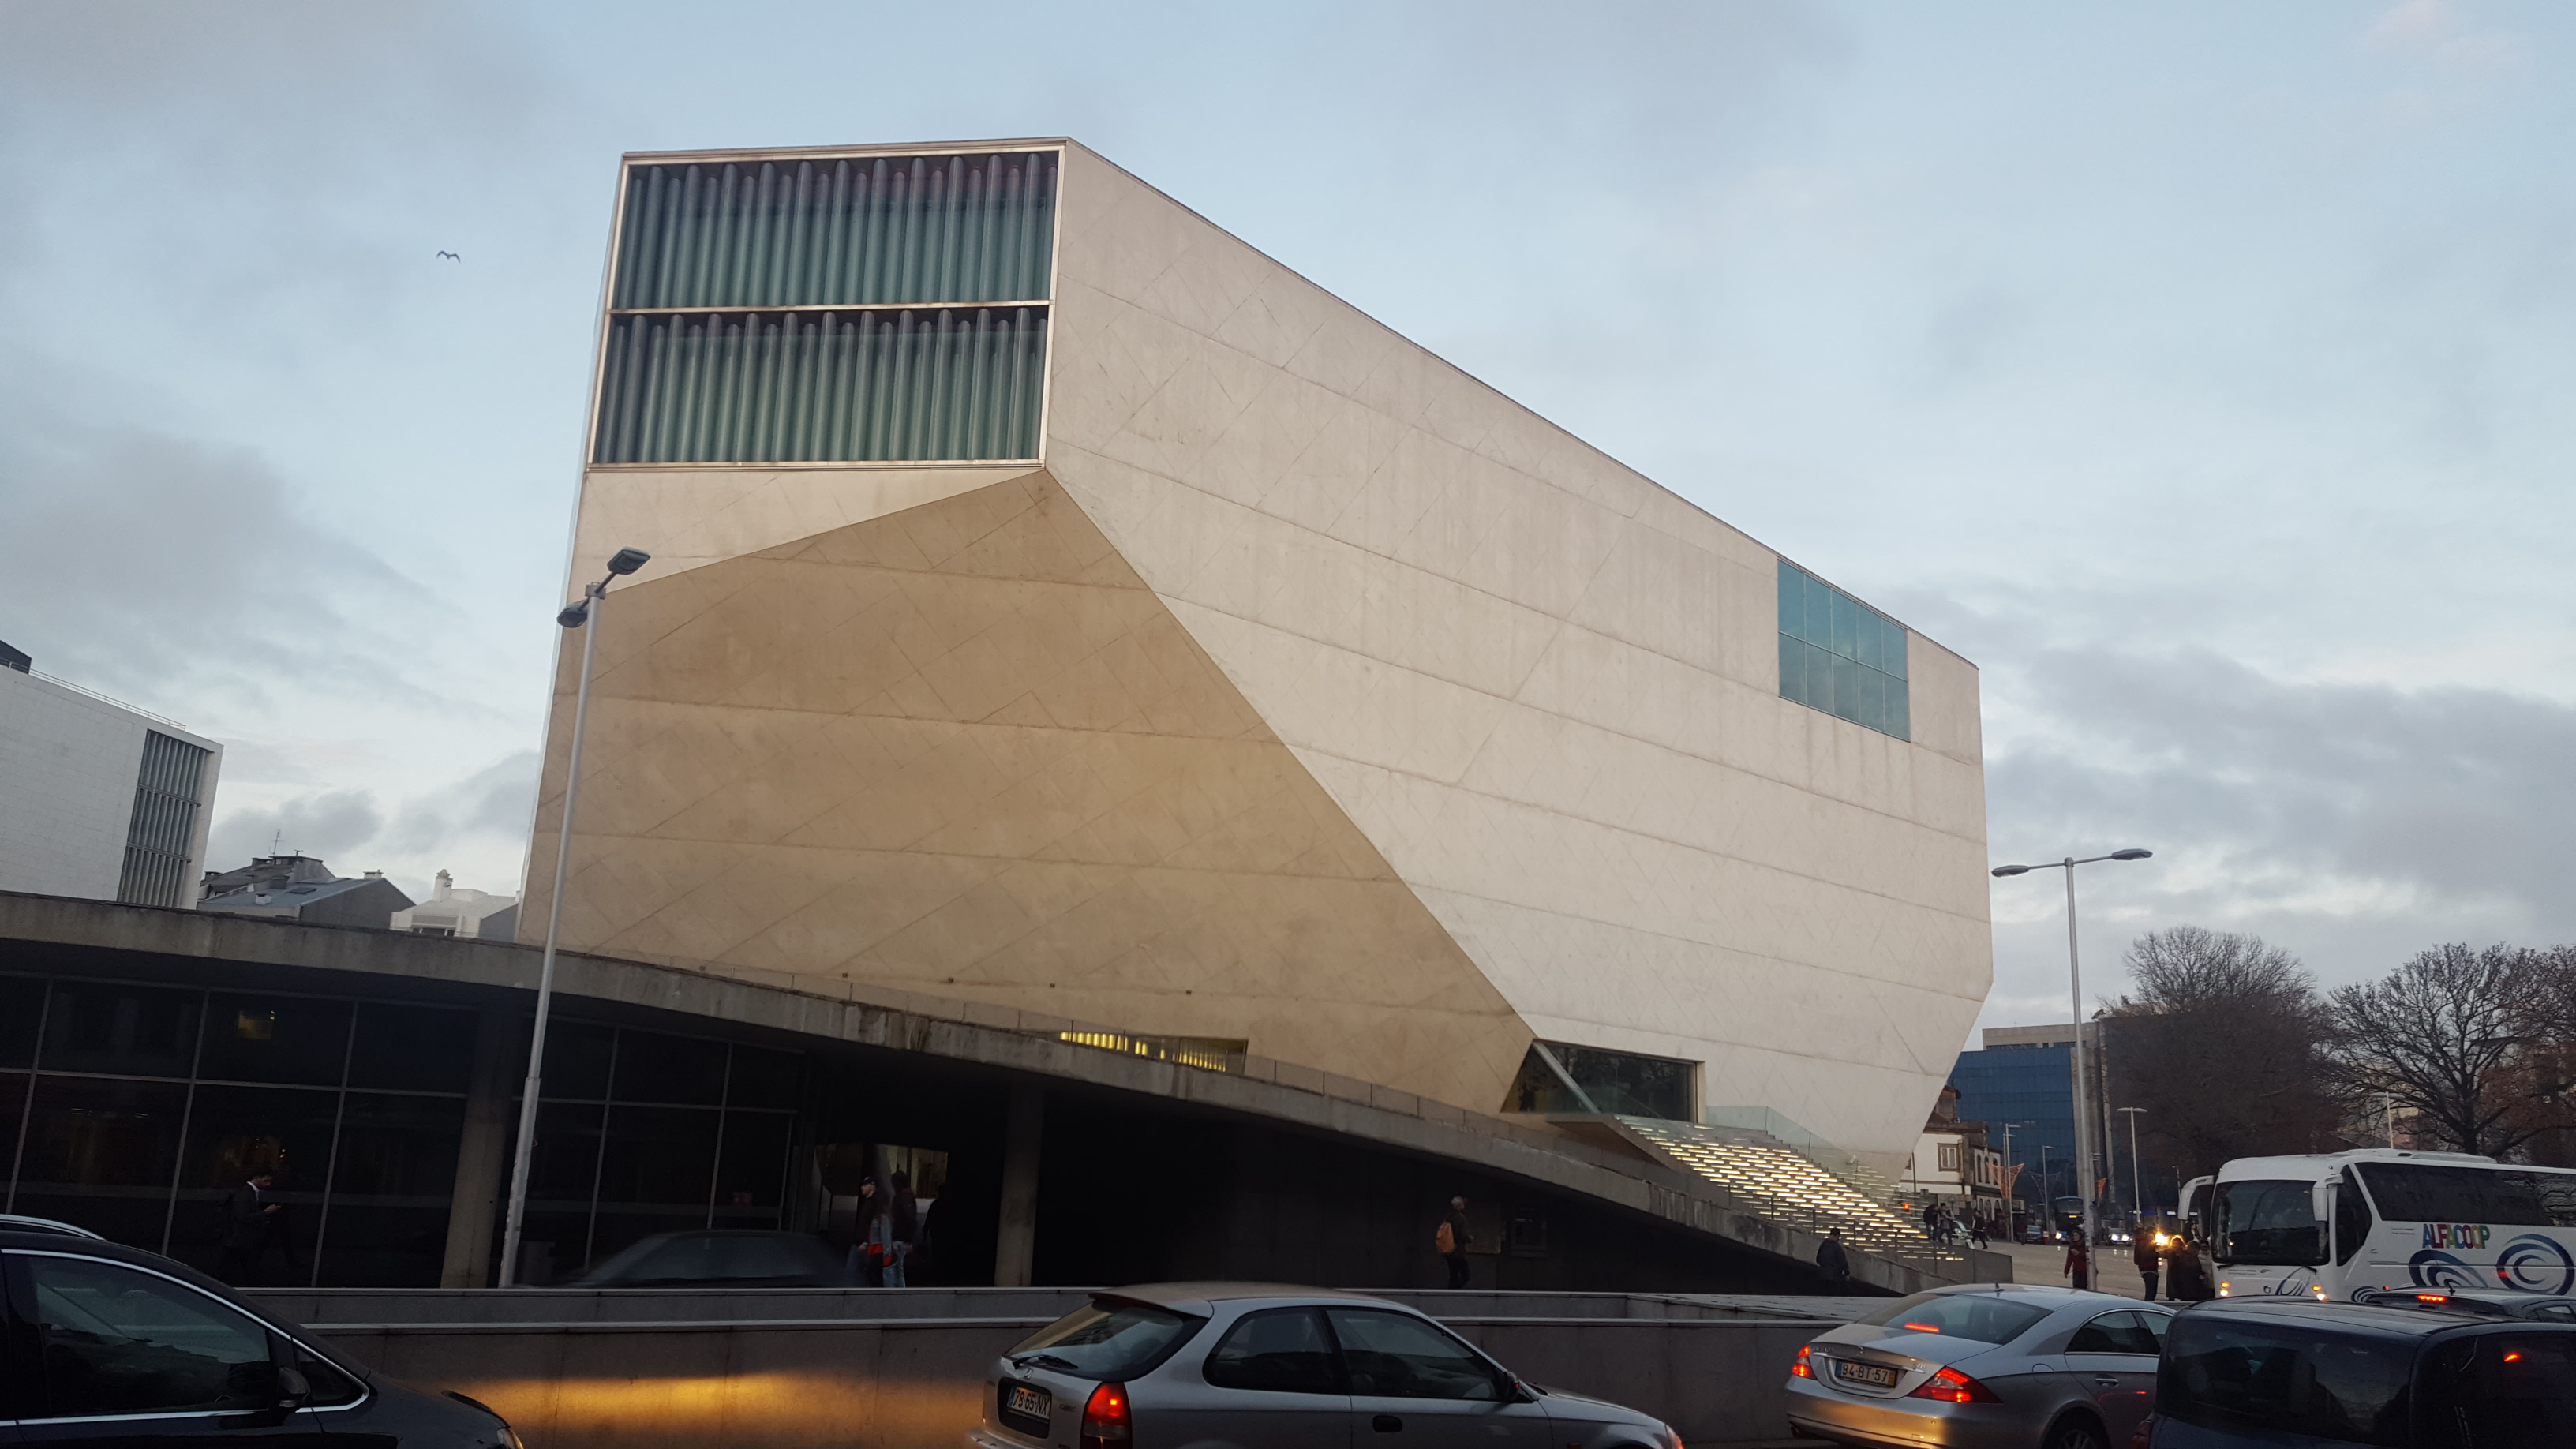musica: (548, 142, 1992, 1106)
